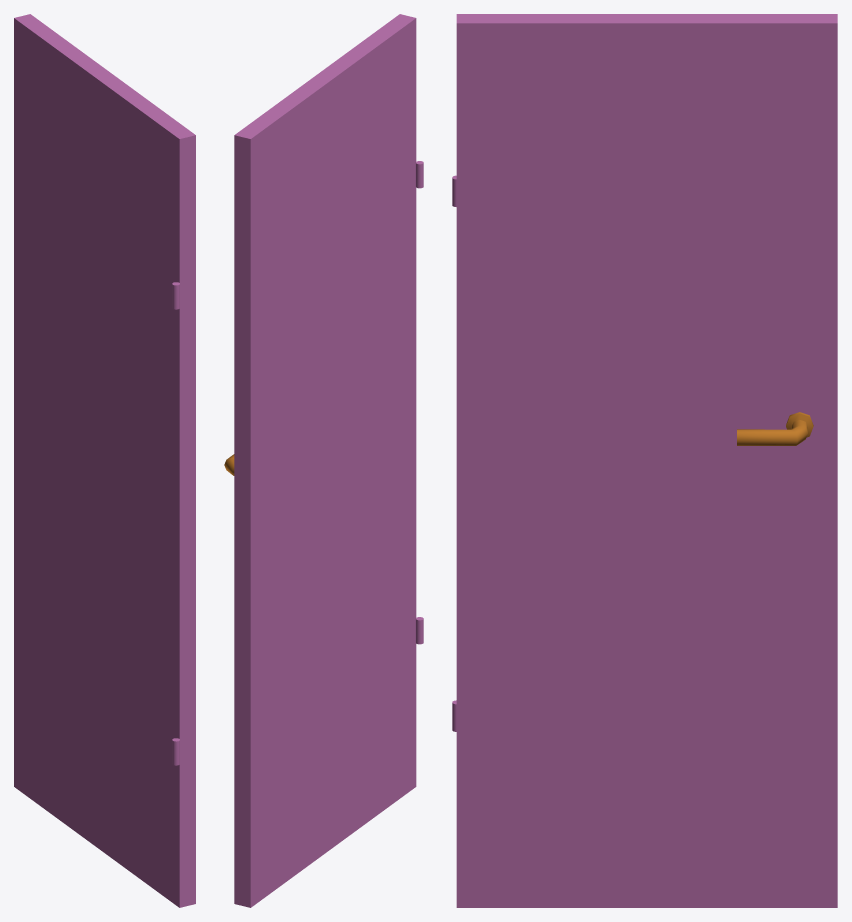
Rendered from ModuleDoor_Sci_door_main1.FBX.
3 views of the same model, side by side, from view 1: azimuth 30°, elevation 25°; view 2: azimuth 150°, elevation 25°; view 3: azimuth 270°, elevation 25° (orthographic). The views are drawn at different scales.
Parts seen in each view (by area): view 1: Sci_door_main1; view 2: Sci_door_main1; view 3: Sci_door_main1, ModuleSci_Do_doorhandlep_013.
Boxes of the visible parts, x1,y1,x2,y2 form: Sci_door_main1: (14,14,195,907); Sci_door_main1: (234,14,423,907); Sci_door_main1: (452,14,837,907); ModuleSci_Do_doorhandlep_013: (737,420,807,445).
Size of the model in its own units: 5.09 by 73.19 by 28.91.
